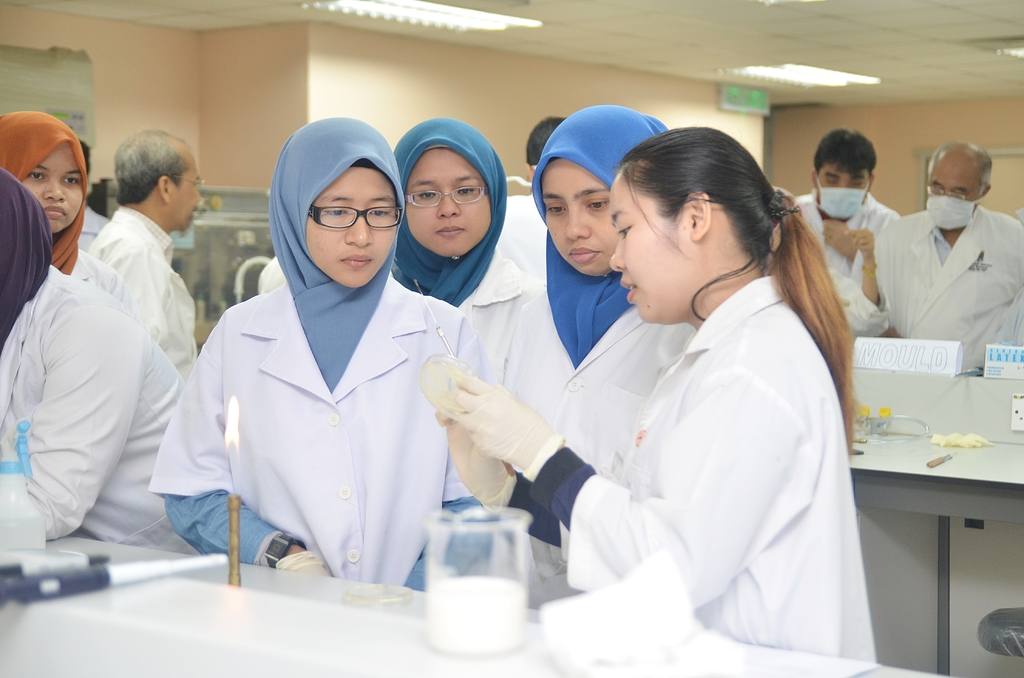Person: (0, 105, 1024, 678)
